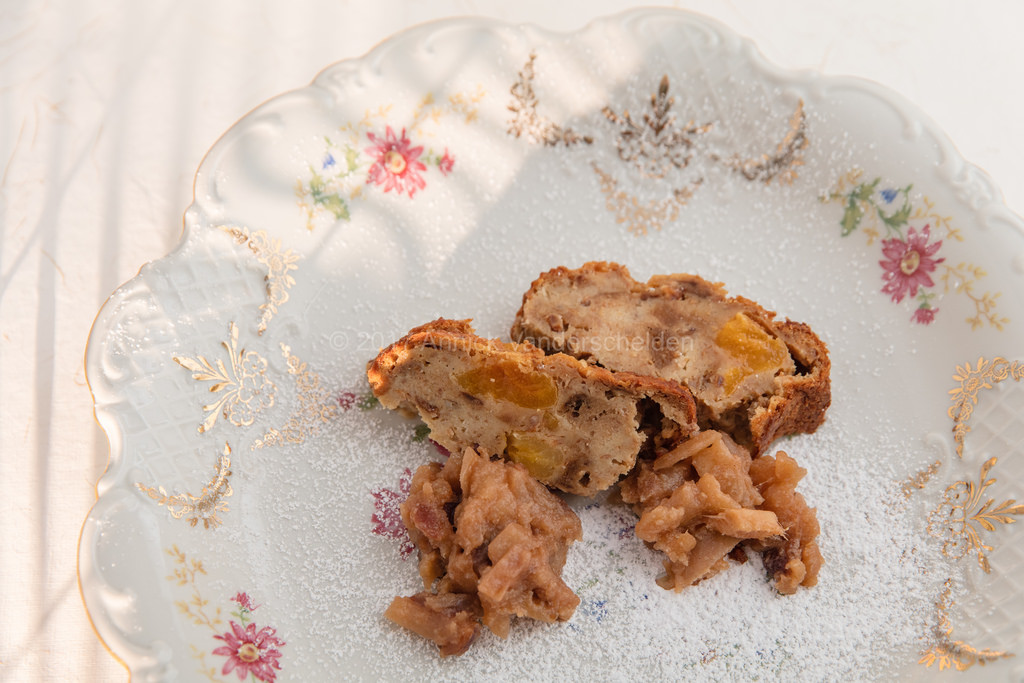slice of bread: (383, 338, 699, 410)
